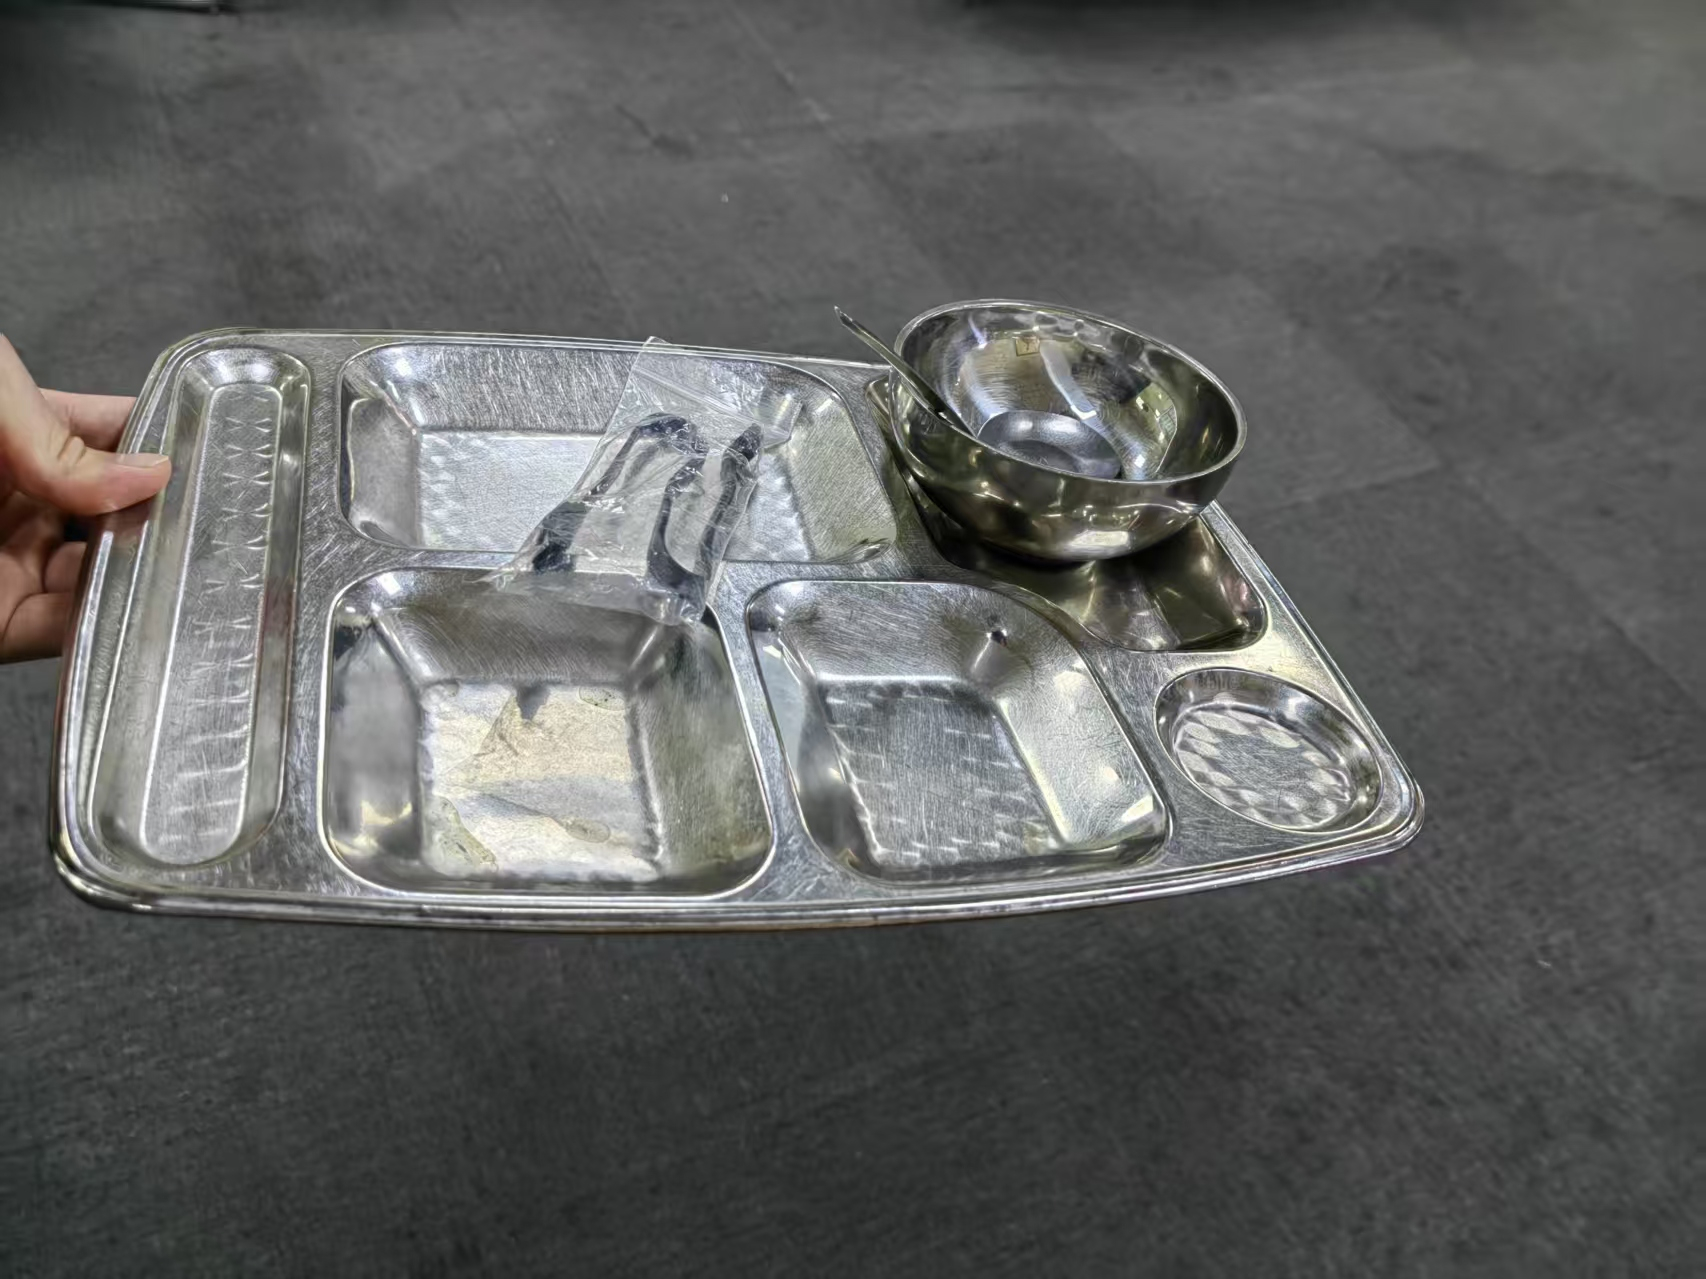mild: (533, 346, 766, 624)
plate: (47, 321, 1433, 924)
